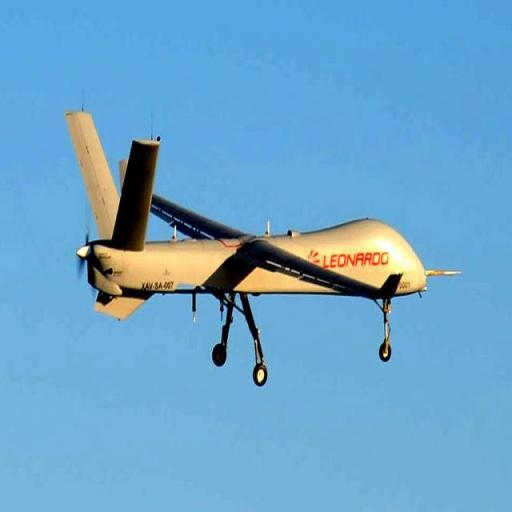uav: (62, 102, 467, 402)
